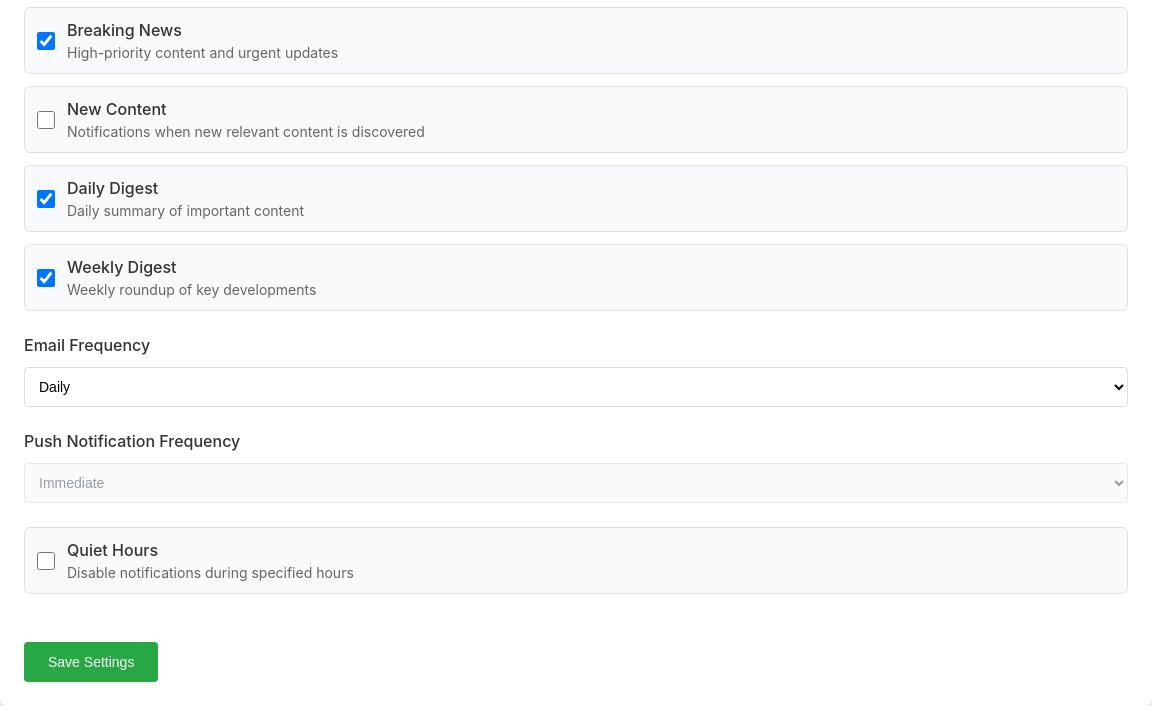
NotificationSettings Component › shows success message after successful save
The image size is (1152, 706).
(page scrolled)
Click the button "Save Settings" at (91, 662), box [24,642,158,682]
(page scrolled)
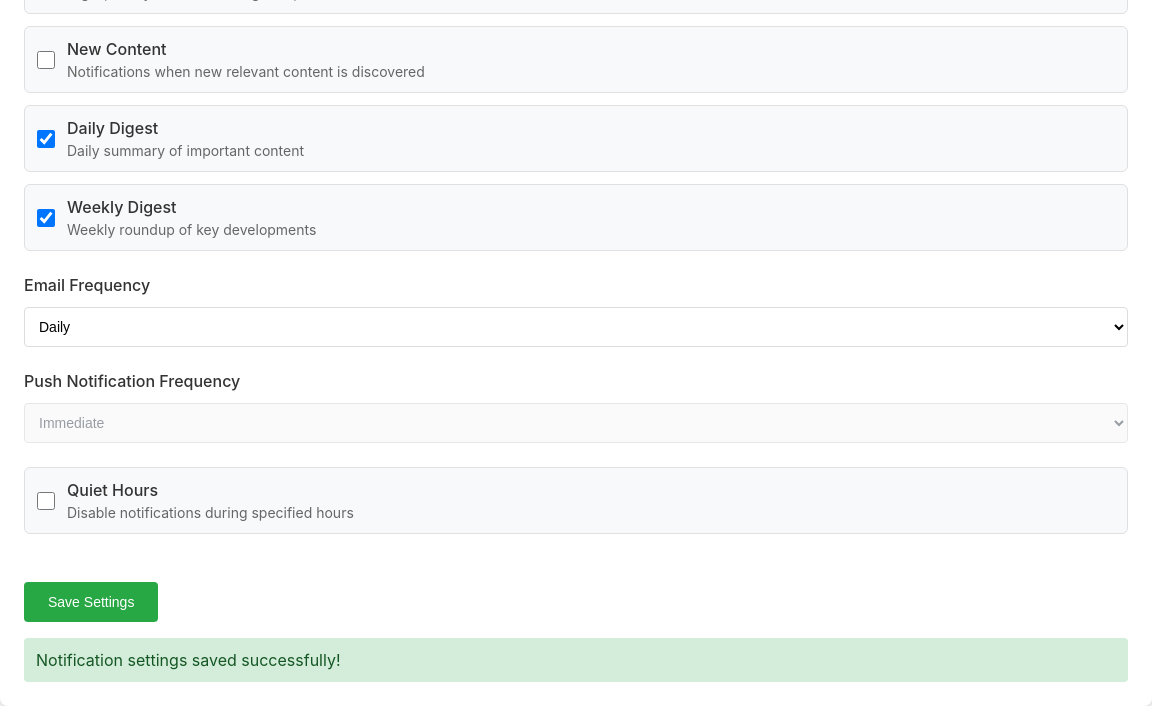
Now the text "Notification settings saved successfully!" is shown, box [24,638,1128,682]
